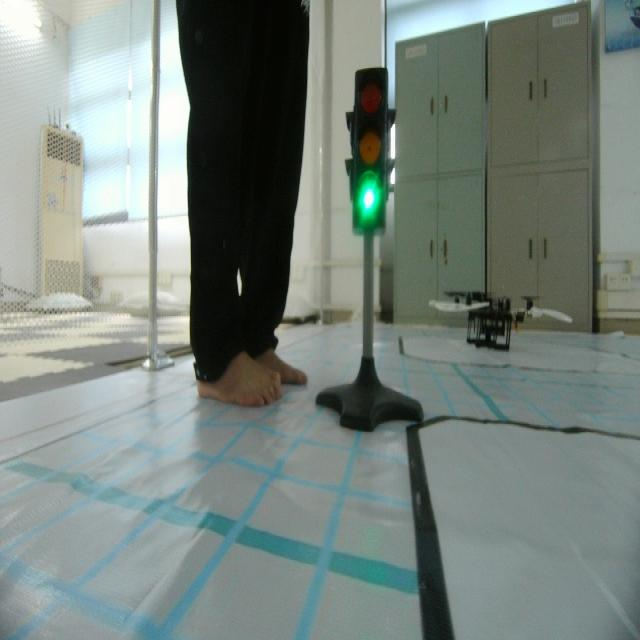green: (350, 62, 394, 240)
